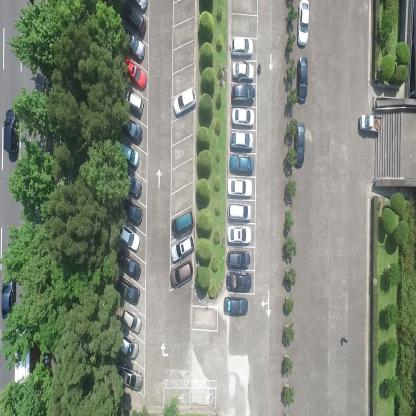car: (120, 2, 146, 36), (116, 250, 142, 282), (116, 361, 143, 391), (124, 55, 147, 90), (295, 0, 311, 48), (170, 258, 194, 290), (172, 86, 196, 118), (1, 271, 16, 320), (117, 275, 140, 306), (3, 110, 18, 155), (171, 233, 194, 262), (124, 31, 146, 60), (121, 116, 143, 145), (118, 331, 140, 360), (118, 223, 141, 250), (296, 54, 308, 104), (171, 210, 194, 236), (225, 272, 252, 294), (121, 198, 142, 226), (124, 86, 144, 115), (293, 120, 305, 168), (227, 176, 253, 198), (226, 224, 252, 246), (121, 308, 142, 335), (123, 171, 142, 200), (231, 83, 256, 105), (119, 143, 140, 169), (223, 297, 250, 317), (228, 154, 254, 174), (228, 201, 252, 222), (359, 113, 382, 134), (229, 131, 254, 150), (226, 251, 251, 270), (230, 37, 252, 58), (231, 108, 255, 127), (232, 61, 255, 80), (127, 0, 148, 13)
